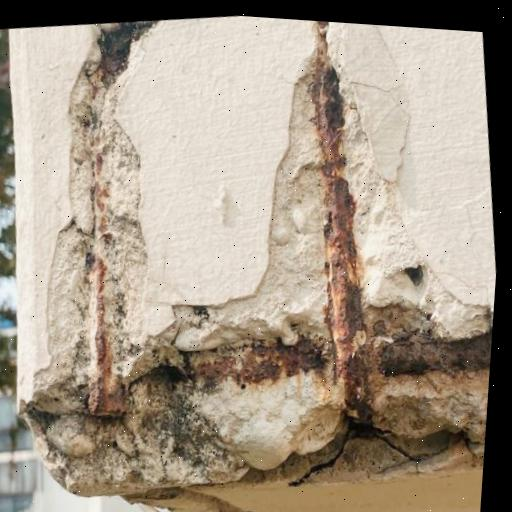exposed_rebar: (312, 21, 364, 398), (379, 330, 492, 377)
spalling: (25, 23, 493, 495)
